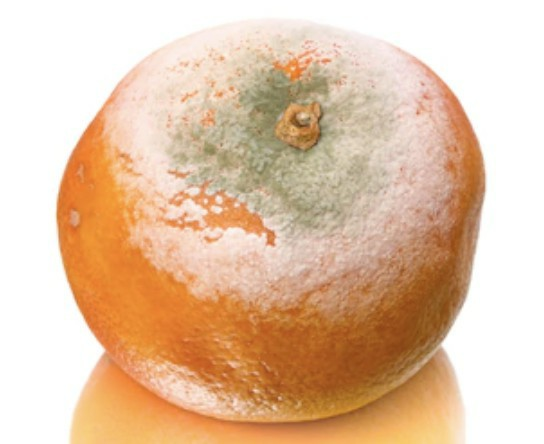rotten_orange: (57, 20, 489, 420)
